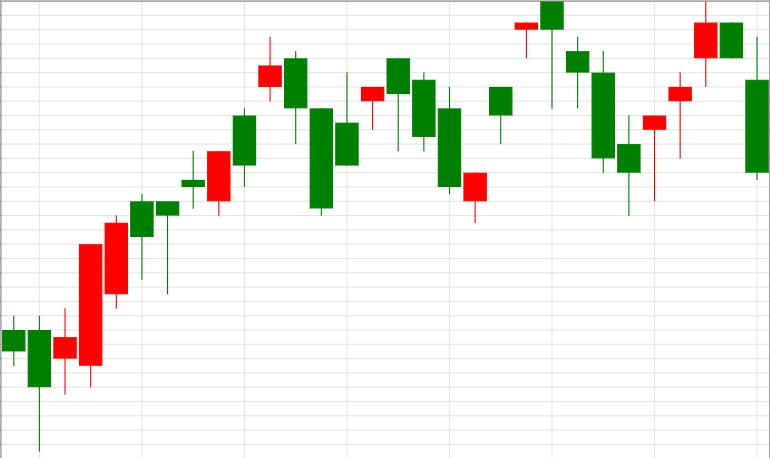hanging_man_fall: (27, 194, 154, 451), (463, 1, 564, 222)
